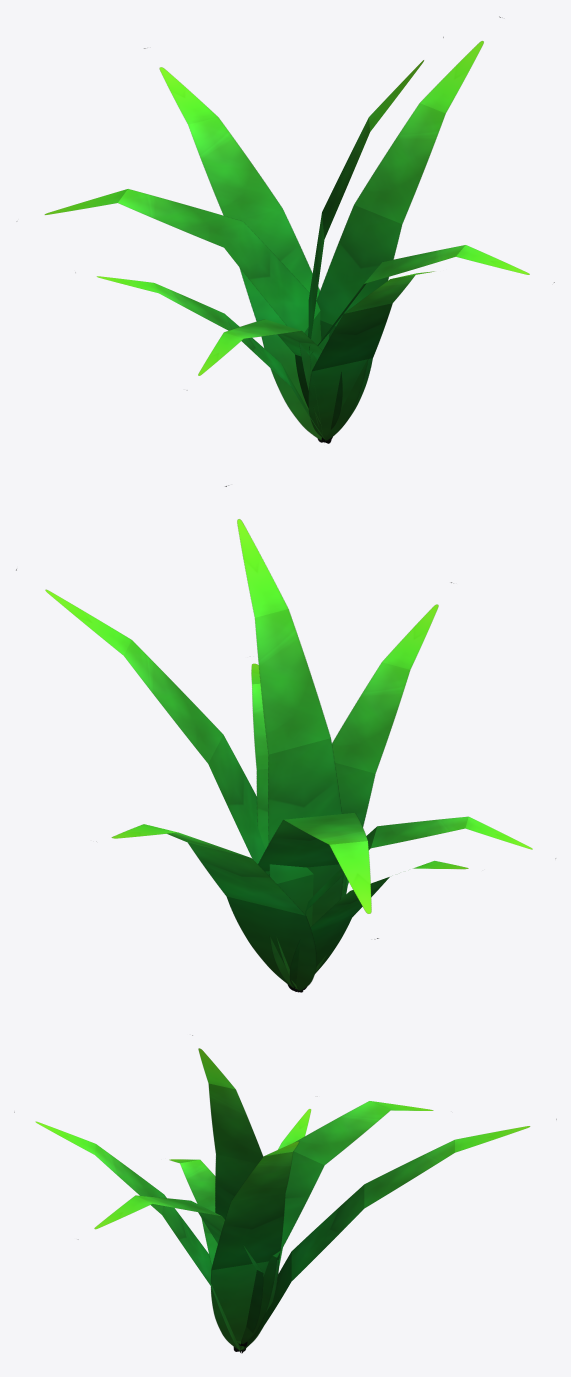
The model's file is SM_Grass_A.glb.
3 renders of one model, top to bottom at view 1: azimuth 30°, elevation 25°; view 2: azimuth 150°, elevation 25°; view 3: azimuth 270°, elevation 25°, orthographic. The views are drawn at different scales.
Visible parts, largest first — view 1: SM_Grass_A; view 2: SM_Grass_A; view 3: SM_Grass_A.
Boxes of the visible parts, x1=… form: SM_Grass_A: x1=44, y1=16, x2=554, y2=443; SM_Grass_A: x1=16, y1=485, x2=555, y2=992; SM_Grass_A: x1=14, y1=1035, x2=556, y2=1353.
Size of the model in its own units: 0.5424 by 0.4936 by 0.6822.
Materials: 1 (1 with a texture image).
